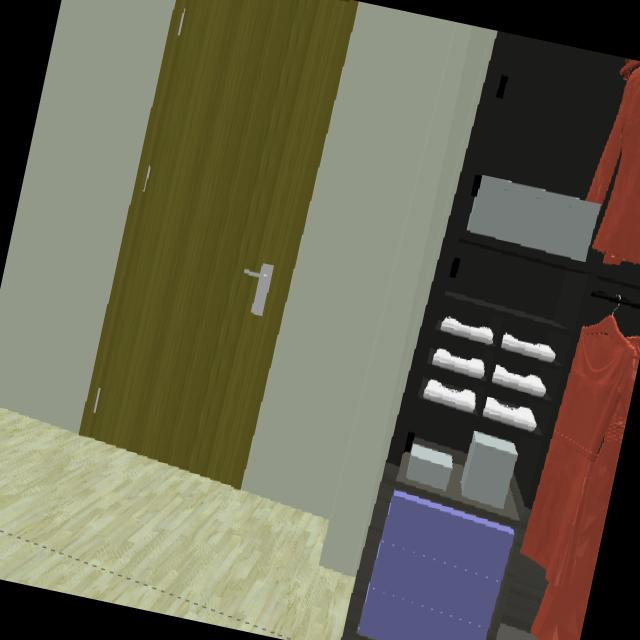wardrobe: (341, 32, 640, 640)
